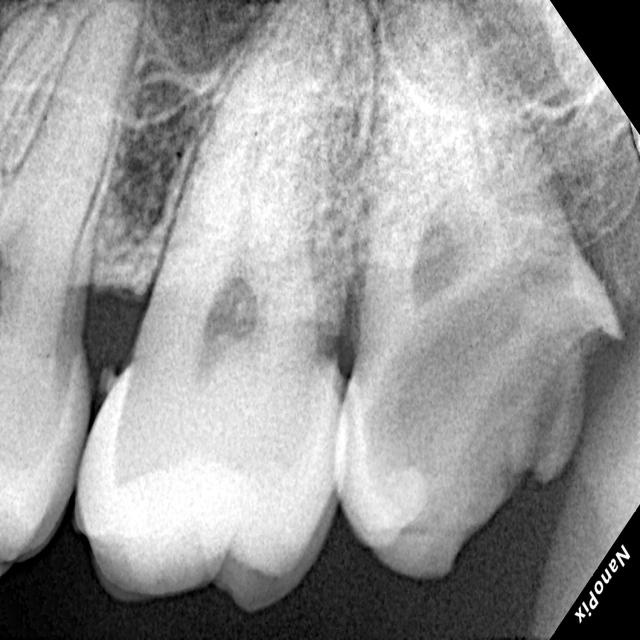karies: (394, 216, 604, 522), (190, 262, 277, 389)
